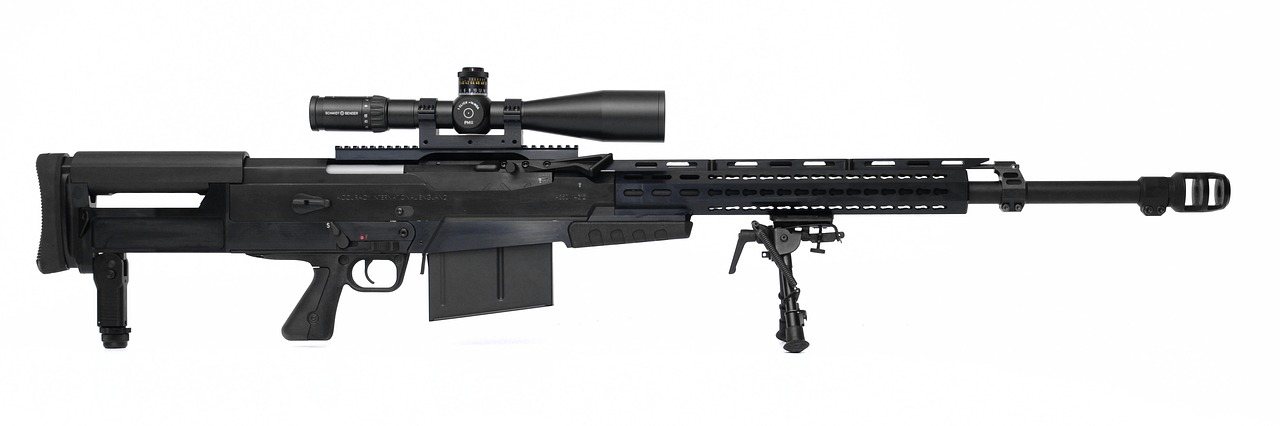gun: (31, 61, 1235, 357)
